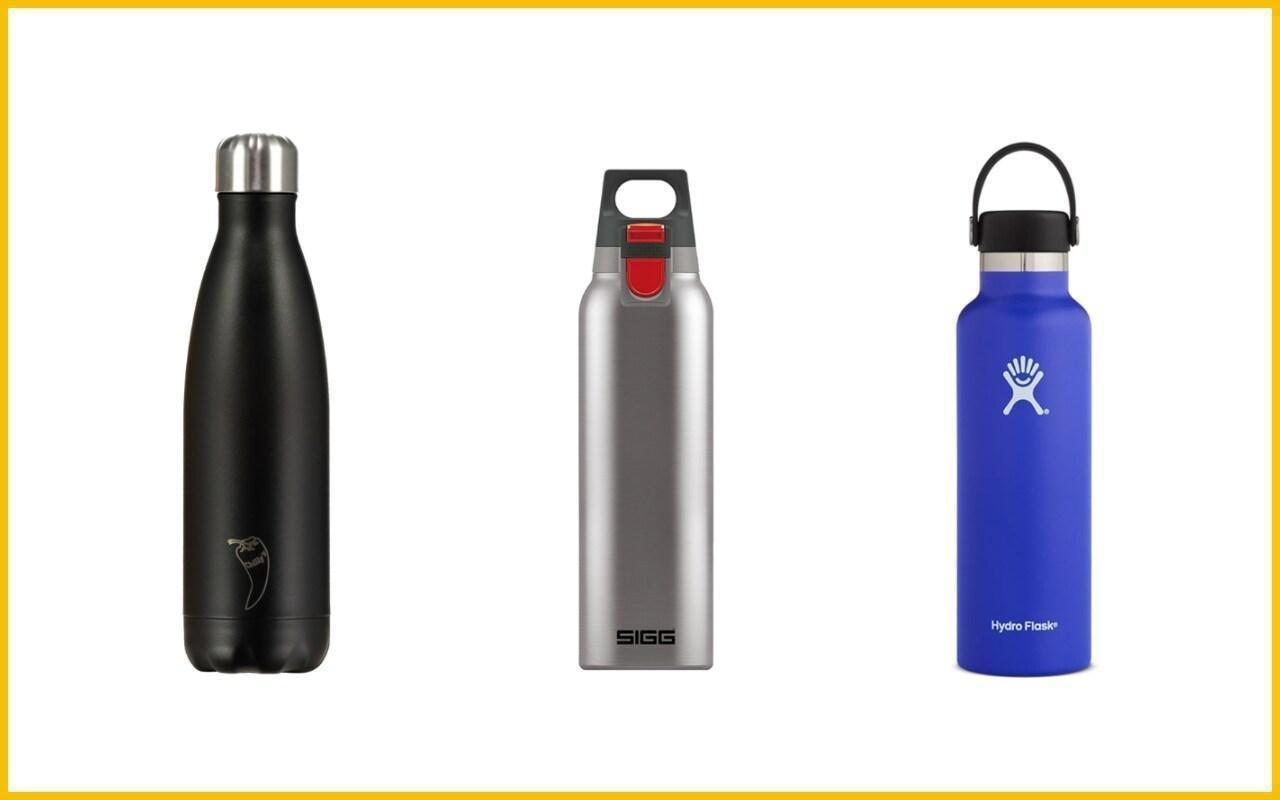gym bottle: (172, 127, 338, 683), (949, 137, 1100, 682), (569, 167, 722, 677)
